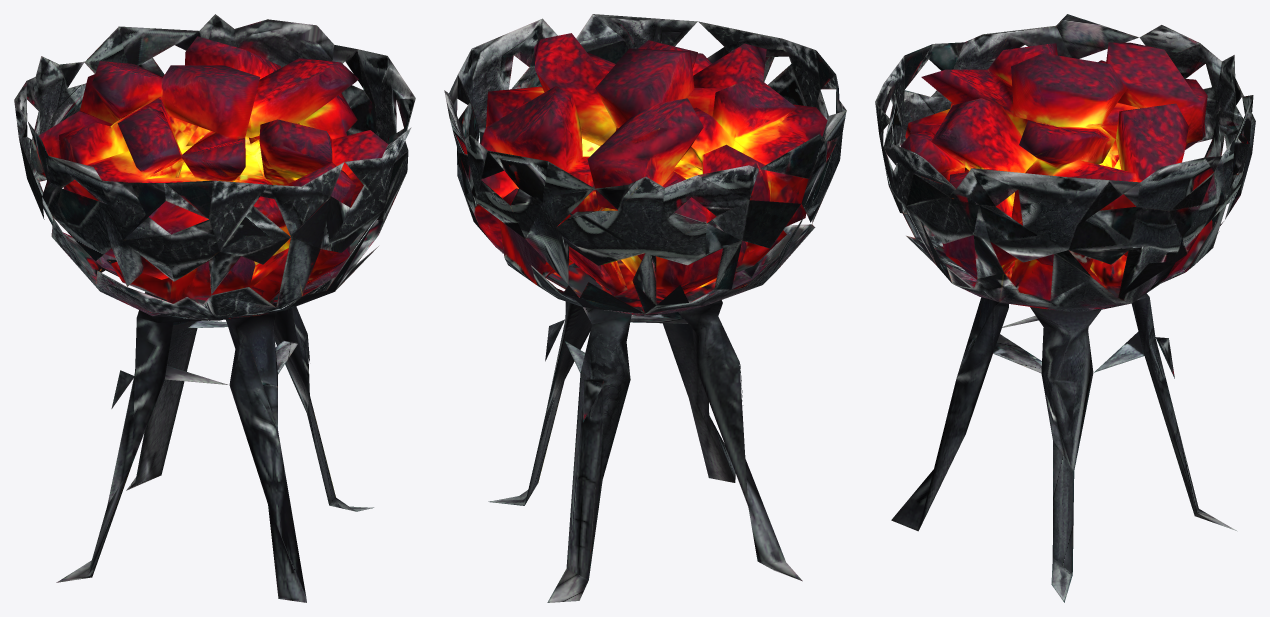
File: prop-den-brazier.glb
3 renders of one model, left to right at view 1: azimuth 30°, elevation 25°; view 2: azimuth 150°, elevation 25°; view 3: azimuth 270°, elevation 25°, orthographic. The views are drawn at different scales.
Size of the model in its own units: 1.51 by 2 by 1.49.
1 material, 1 textured.
